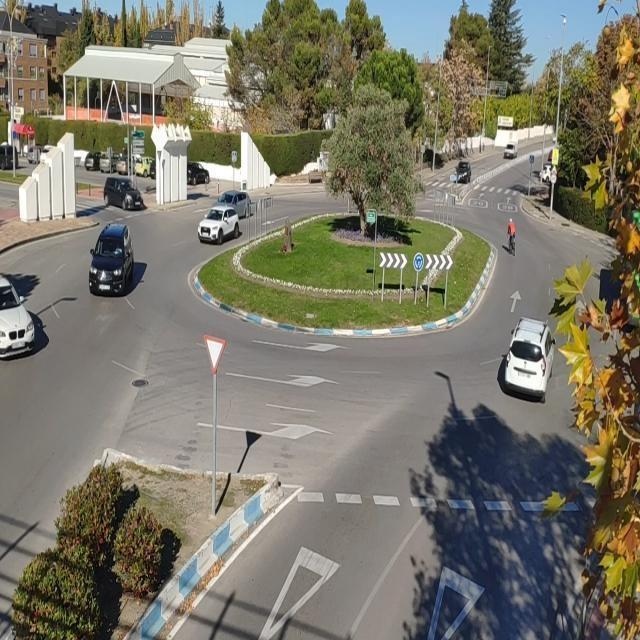Car: (503, 315, 557, 400), (88, 223, 134, 298), (0, 279, 37, 361), (197, 207, 240, 245), (209, 190, 252, 219), (454, 162, 472, 184)
Cycle: (508, 234, 516, 257)
Van: (103, 177, 143, 211), (503, 143, 518, 160)
